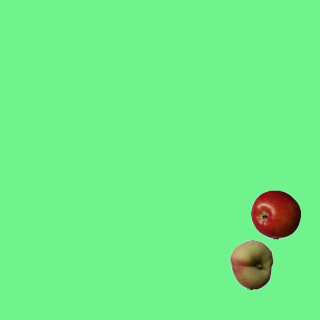Apple Braeburn: (250, 189, 300, 239)
Peach Flat: (226, 239, 276, 289)
